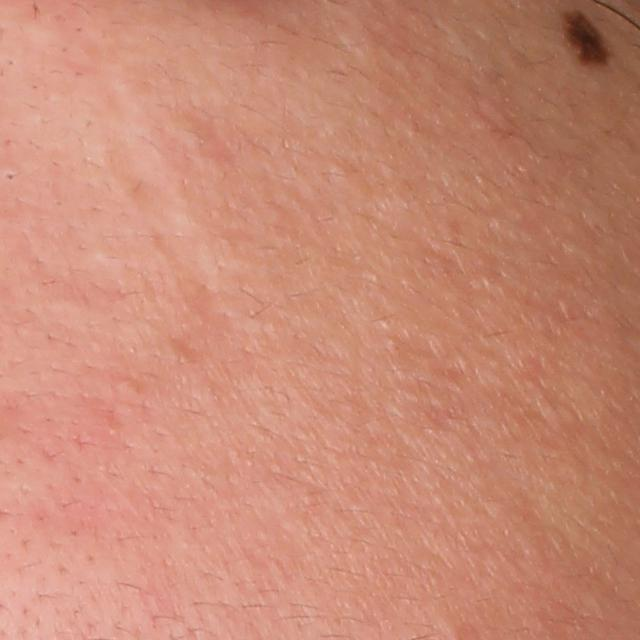comedo: (4, 169, 19, 182)
nevus: (559, 4, 616, 73)
